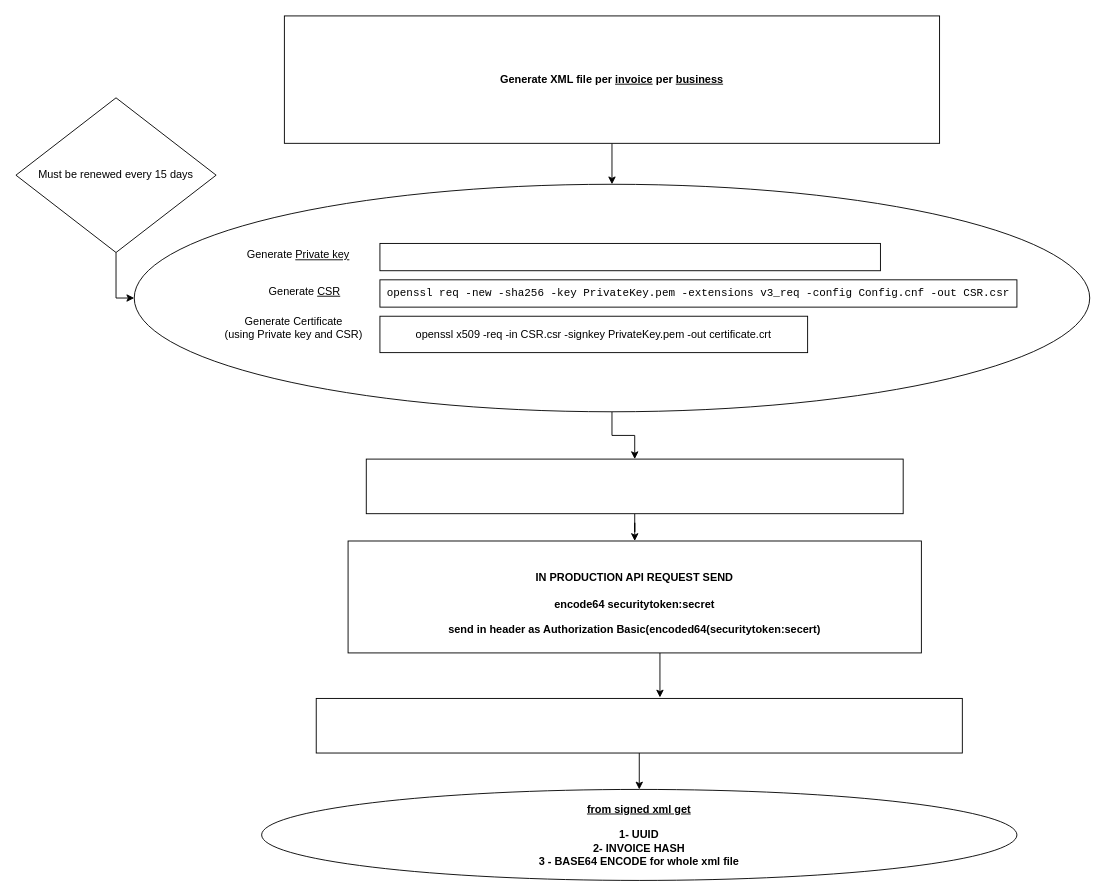
This 1106x896 diagram has some shape labels left out. Here are the shapes that lost their labels. From the top down, the box of each, then its label:
(379, 243, 880, 271): openssl ecparam -name secp256k1 -genkey -noout -out PrivateKey.pem
(365, 458, 903, 514): USE CSR FILE AS BASE64 IN JSON REQUEST TO GET CSID
(315, 698, 962, 753): SIGN THE XML FILE USING Certificate and Private key
